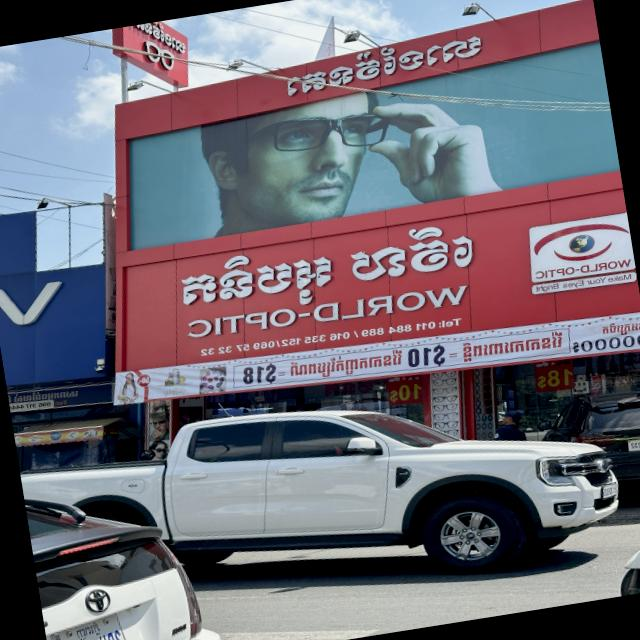1: (174, 217, 488, 320)
110: (234, 328, 569, 386)
Yolov11_80vkh: (275, 25, 494, 103)
